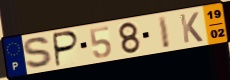5: (88, 24, 113, 59)
8: (117, 20, 143, 56)
I: (157, 14, 172, 51)
K: (178, 11, 205, 45)
P: (53, 30, 81, 69)
S: (21, 36, 56, 70)
